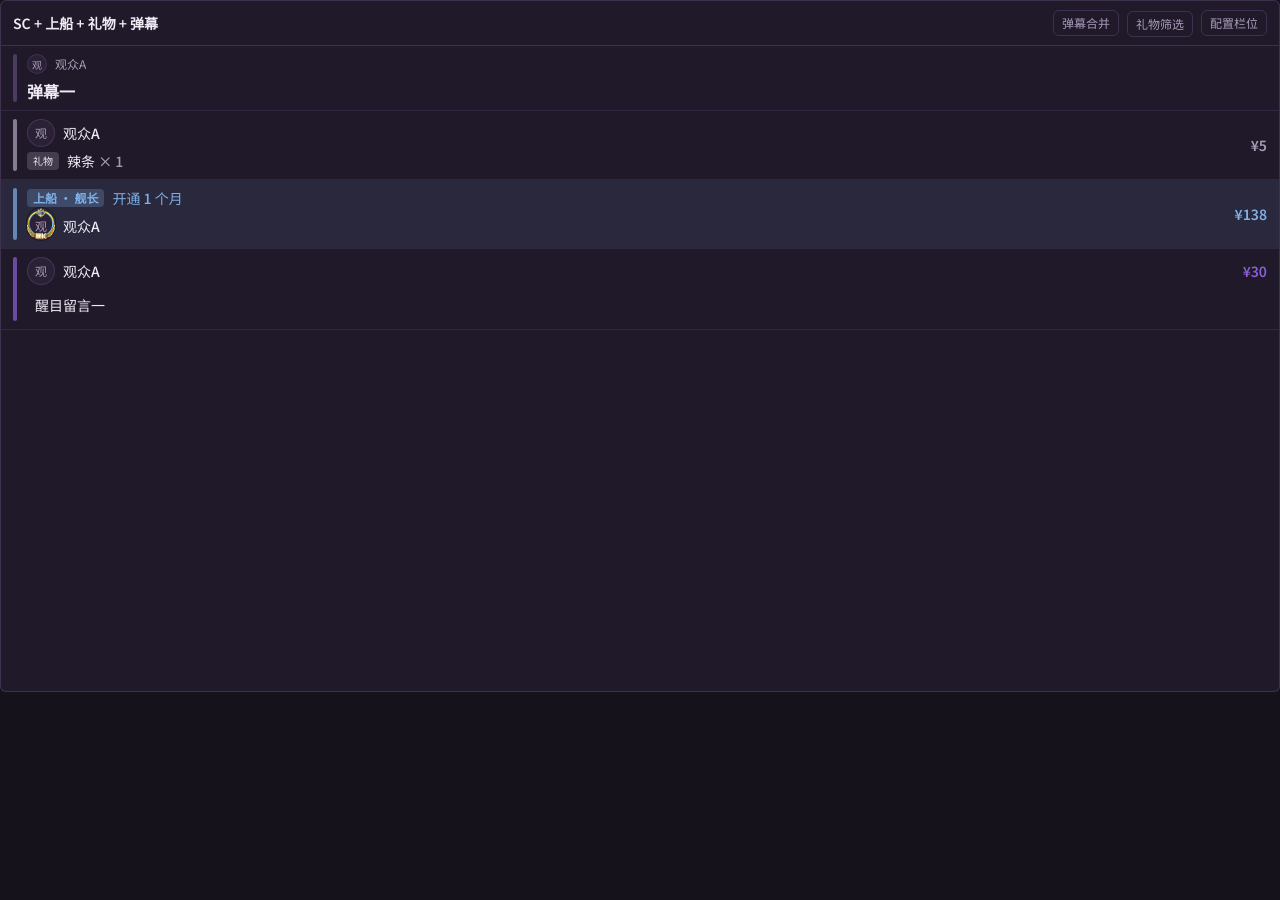
Test case: DanmakuDashboard › narrow(<640) 折叠为单栏全类型，配置面板全部勾选
Expected: the text "弹幕一" is shown, top-left (27, 79), bottom-right (75, 103)
Expected: the text "醒目留言一" is shown, top-left (35, 295), bottom-right (105, 315)
# 打开配置面板：全部四类勾选
Click the button with aria-label "配置「SC + 上船 + 礼物 + 弹幕」栏". click: (1234, 23)
box: top-left (1201, 10), bottom-right (1267, 36)
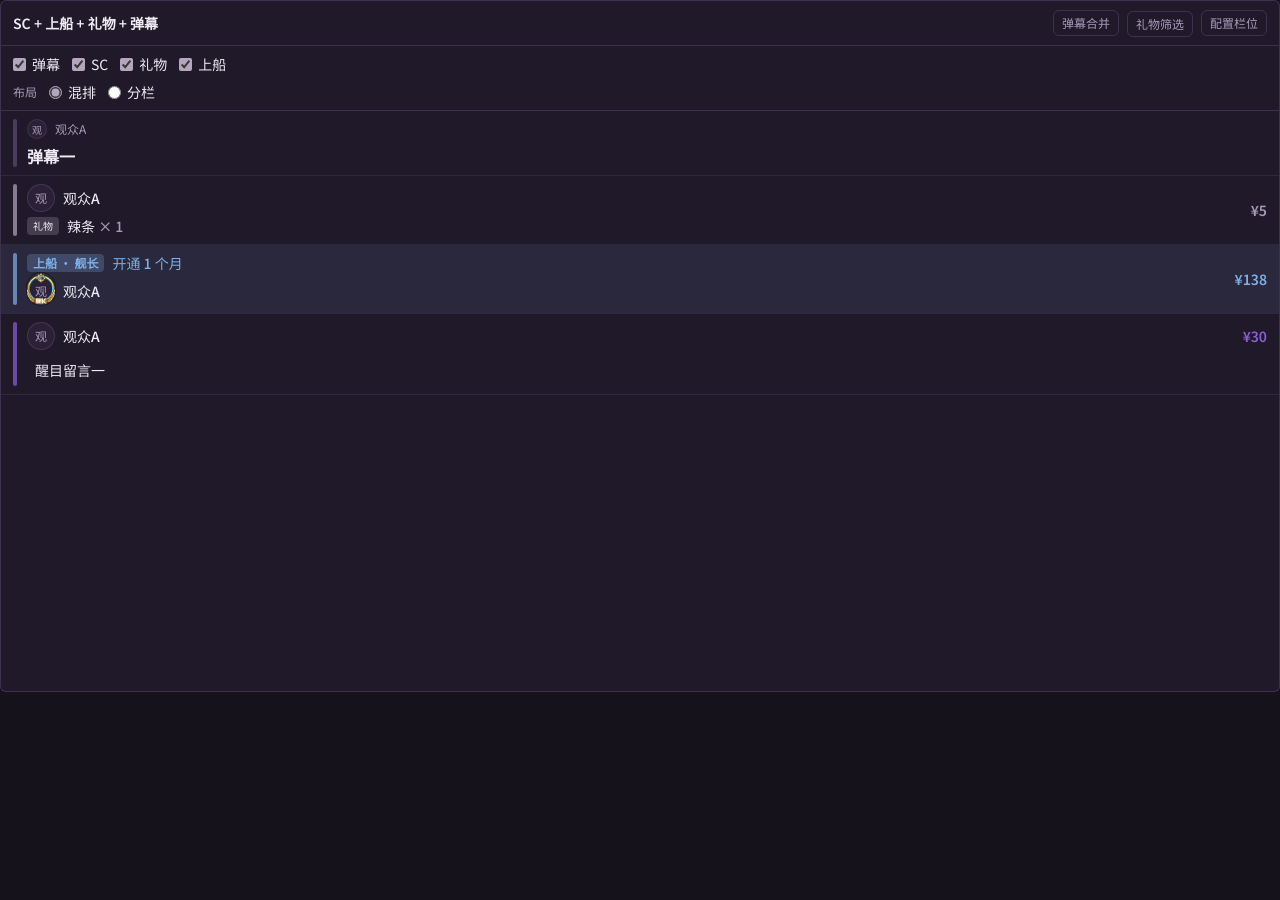
Expected: the number of checkboxes is 4, top-left (13, 58), bottom-right (26, 70); top-left (72, 58), bottom-right (85, 70); top-left (120, 58), bottom-right (133, 70); top-left (179, 58), bottom-right (192, 70)
Expected: the checkbox labelled "弹幕" is checked, top-left (13, 58), bottom-right (26, 70)
Expected: the checkbox labelled "SC" is checked, top-left (72, 58), bottom-right (85, 70)
